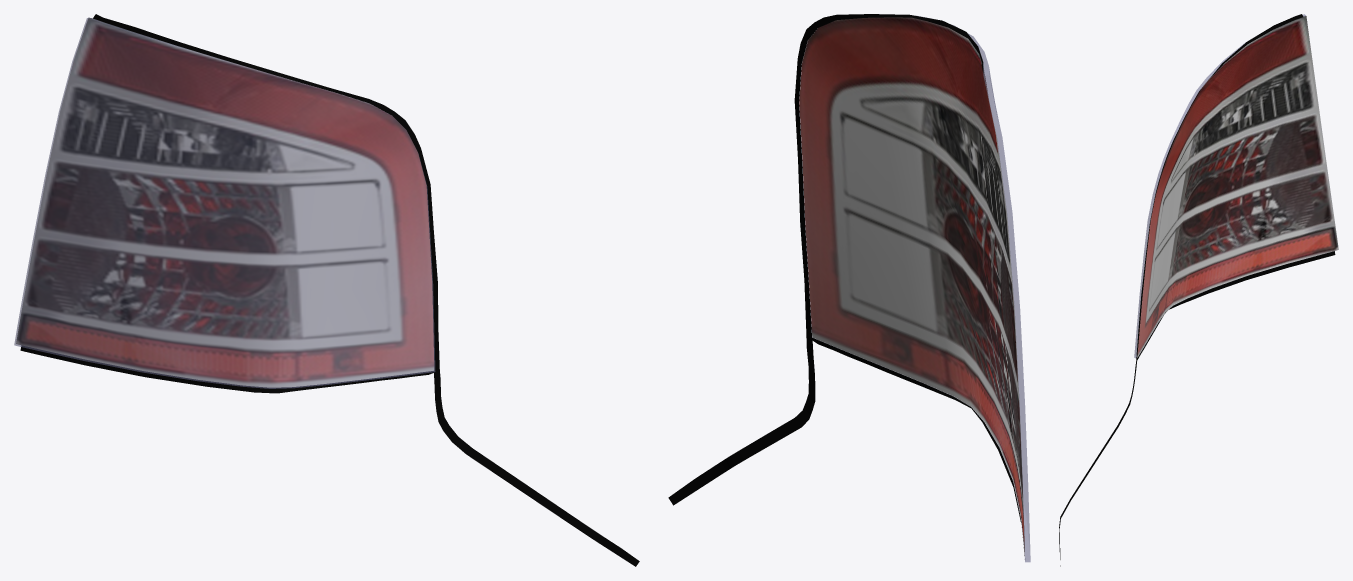
3 views of the same model, side by side, from view 1: azimuth 30°, elevation 25°; view 2: azimuth 150°, elevation 25°; view 3: azimuth 270°, elevation 25° (orthographic). The views are drawn at different scales.
Visible parts, largest first — view 1: P740_541C_R_P740_541C_R_2_DTaSI, P740_541C_R_1_N_P740_541C_R, P740_541C_R_P740_541C_R_3_D; view 2: P740_541C_R_1_N_P740_541C_R, P740_541C_R_P740_541C_R_3_D, P740_541C_R_P740_541C_R_2_DTaSI; view 3: P740_541C_R_1_N_P740_541C_R, P740_541C_R_P740_541C_R_3_D, P740_541C_R_P740_541C_R_2_DTaSI.
Boxes of the visible parts, x1,y1,x2,y2 form: P740_541C_R_P740_541C_R_2_DTaSI: (14,17,435,388); P740_541C_R_1_N_P740_541C_R: (16,17,434,387); P740_541C_R_P740_541C_R_3_D: (20,14,639,566); P740_541C_R_1_N_P740_541C_R: (799,17,1025,559); P740_541C_R_P740_541C_R_3_D: (668,14,1023,547); P740_541C_R_P740_541C_R_2_DTaSI: (916,15,1030,562); P740_541C_R_1_N_P740_541C_R: (1137,16,1338,357); P740_541C_R_P740_541C_R_3_D: (1059,14,1335,566); P740_541C_R_P740_541C_R_2_DTaSI: (1134,14,1305,358).
Bounding box in the file's own units: 45.37 × 51.69 × 32.03.
